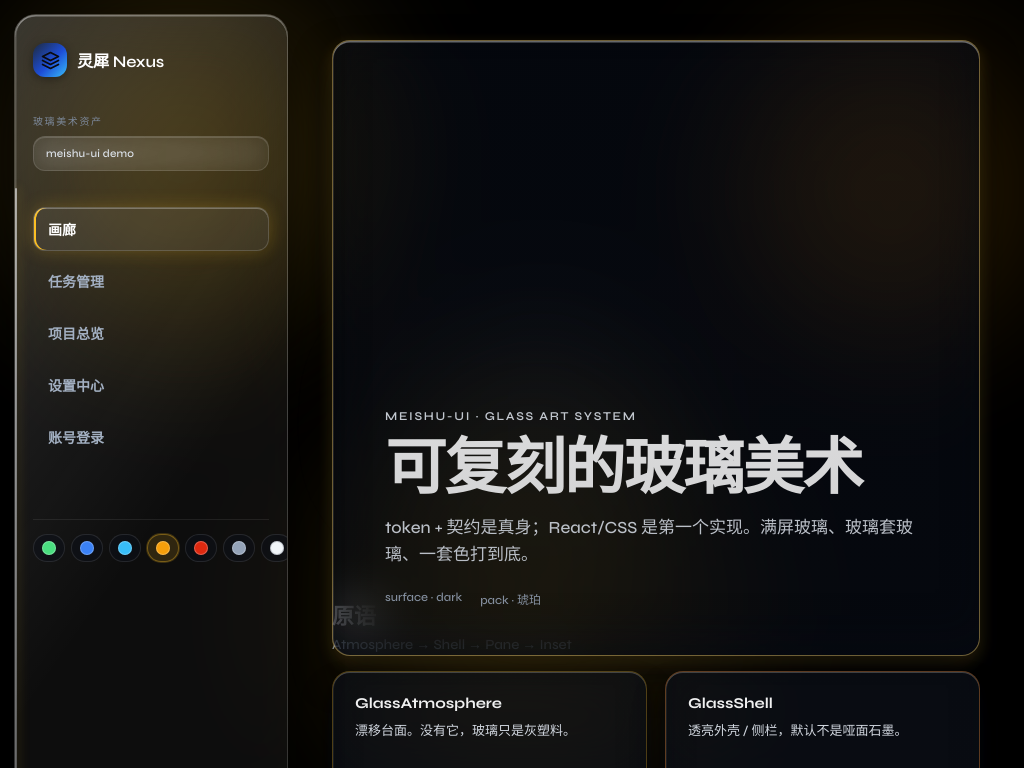
Test: gallery demo › sample pages show disclaimer banner
Click the button "设置中心" at x=151, y=385, box [33, 363, 269, 407]
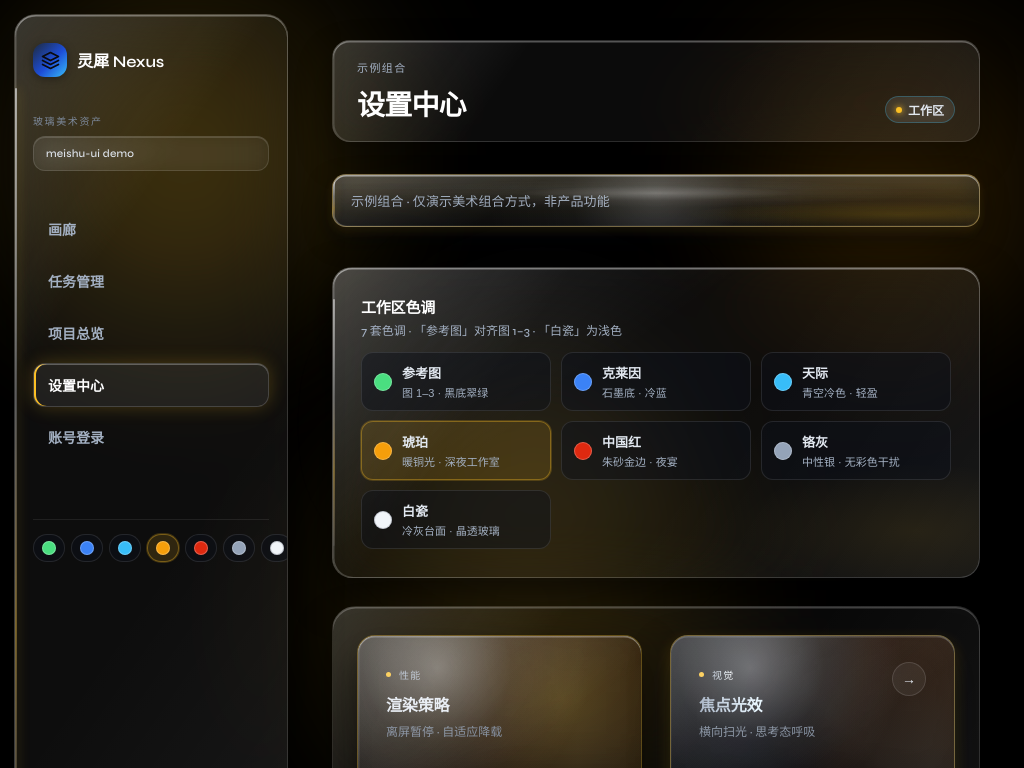
Check: the text "示例组合 · 仅演示美术组合方式，非产品功能" is shown, box [332, 174, 980, 227]
